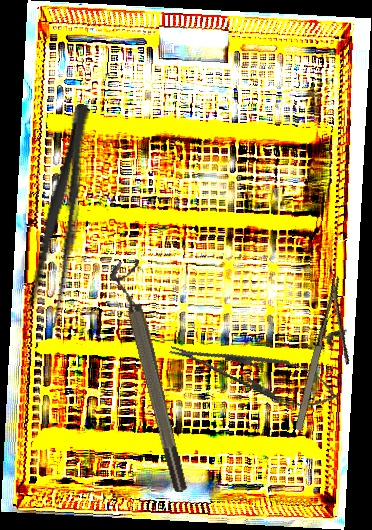Dressing Forceps: (25, 100, 101, 329)
Fixation Ring: (107, 257, 192, 497)
Needle Holder: (164, 327, 344, 418), (289, 274, 372, 439)
